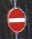No entry: (6, 6, 27, 34)
